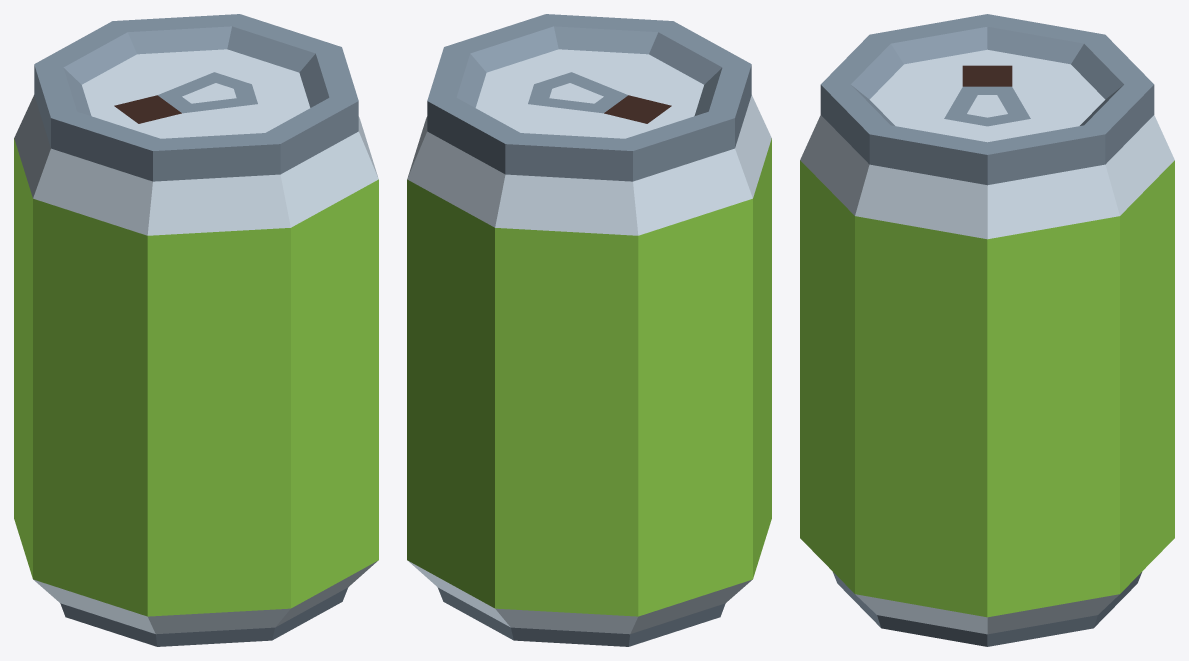
File: Soda Can.fbx
3 views of the same model, side by side, from view 1: azimuth 30°, elevation 25°; view 2: azimuth 150°, elevation 25°; view 3: azimuth 270°, elevation 25° (orthographic).
Parts seen in each view (by area): view 1: mergedBlocks; view 2: mergedBlocks; view 3: mergedBlocks.
Boxes of the visible parts, x1,y1,x2,y2 form: mergedBlocks: (14,14,378,646); mergedBlocks: (407,14,771,646); mergedBlocks: (800,14,1174,646).
Size of the model in its own units: 2.25 by 3.3 by 2.25.
